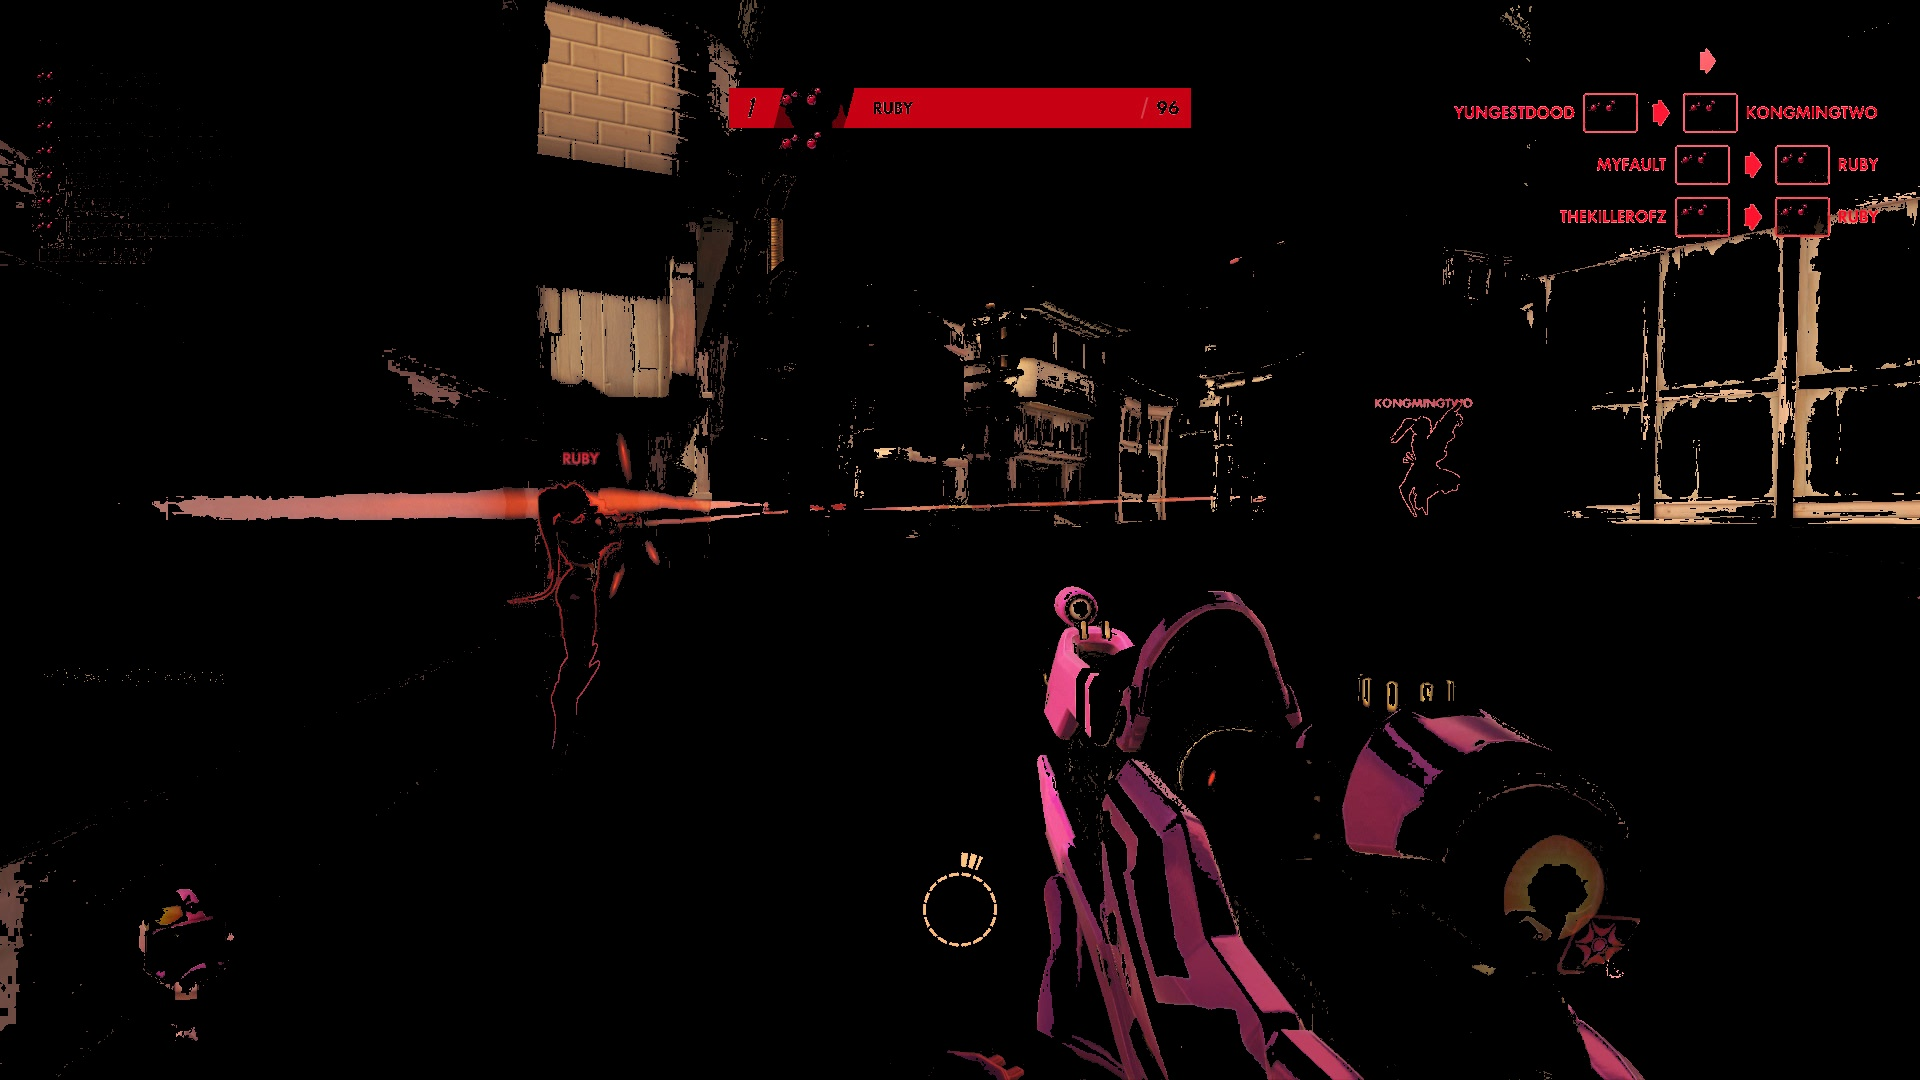widowmaker: (520, 477, 624, 787)
